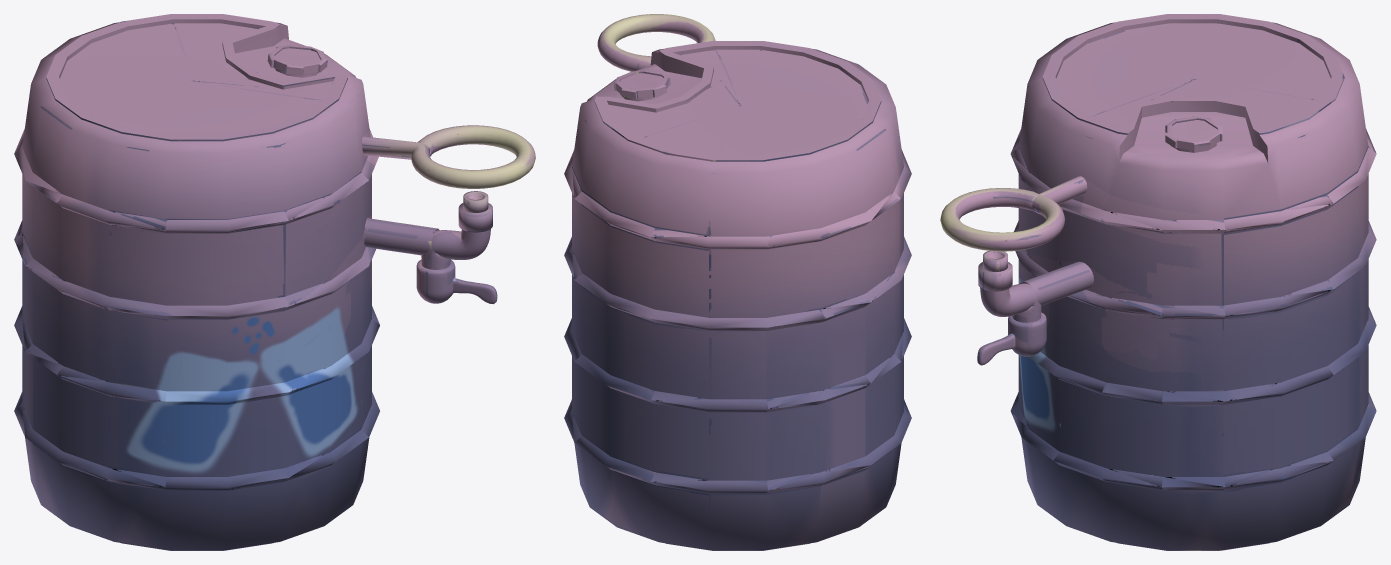
Rendered from bucket-top.fbx.
The picture shows the model from 3 angles, left to right: view 1: azimuth 30°, elevation 25°; view 2: azimuth 150°, elevation 25°; view 3: azimuth 270°, elevation 25°; orthographic projection. The views are drawn at different scales.
Parts seen in each view (by area): view 1: bucket-top; view 2: bucket-top; view 3: bucket-top.
Part boxes in pixels (x1,y1,x2,y2): bucket-top: (14,14,535,550); bucket-top: (564,14,911,550); bucket-top: (940,14,1376,550).
Size of the model in its own units: 189 by 190 by 183.
